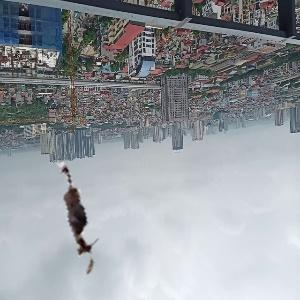drone: (10, 145, 141, 276)
